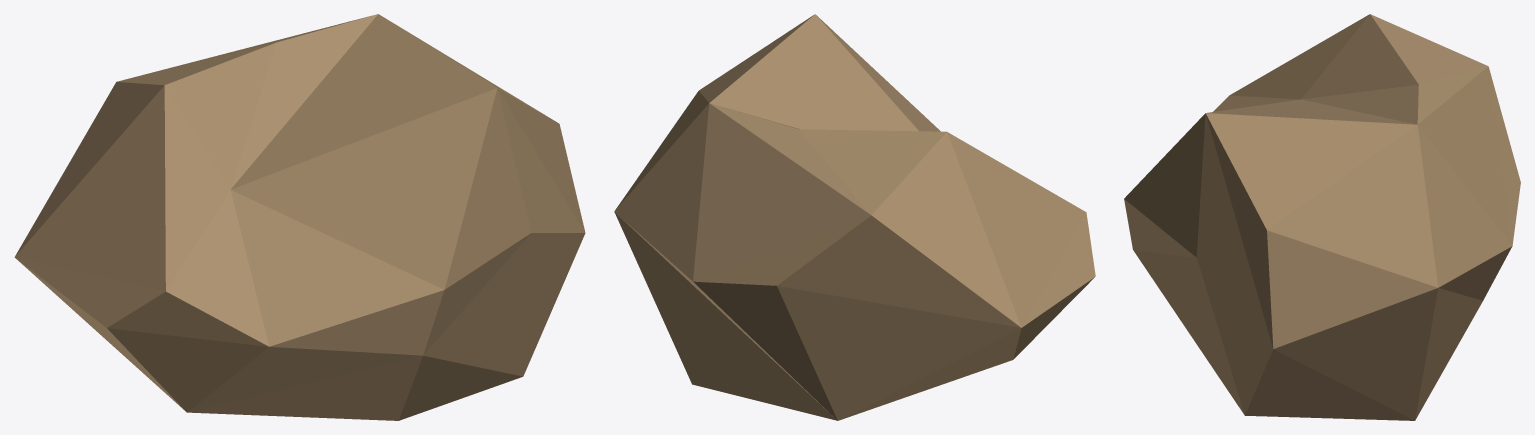
File: Ironstone_Middle.fbx
3 views of the same model, side by side, from view 1: azimuth 30°, elevation 25°; view 2: azimuth 150°, elevation 25°; view 3: azimuth 270°, elevation 25° (orthographic). The views are drawn at different scales.
Visible parts, largest first — view 1: Ironstone_middle; view 2: Ironstone_middle; view 3: Ironstone_middle.
Part boxes in pixels (x1,y1,x2,y2): Ironstone_middle: (14, 14, 585, 420); Ironstone_middle: (614, 14, 1095, 420); Ironstone_middle: (1124, 14, 1520, 420).
Size of the model in its own units: 0.7082 by 0.4696 by 0.5652.
